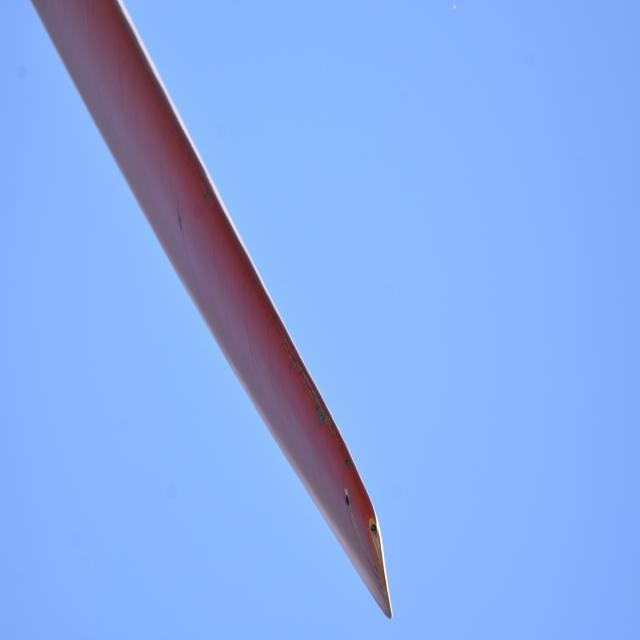Coating_defects: (367, 509, 390, 579)
Crack: (283, 346, 323, 410)
EROSION: (316, 411, 368, 479)
